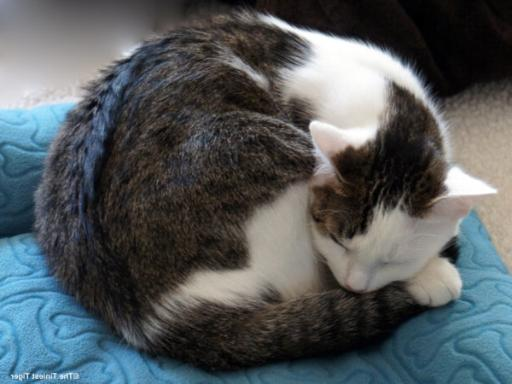cat_sleeping: (35, 12, 497, 369)
